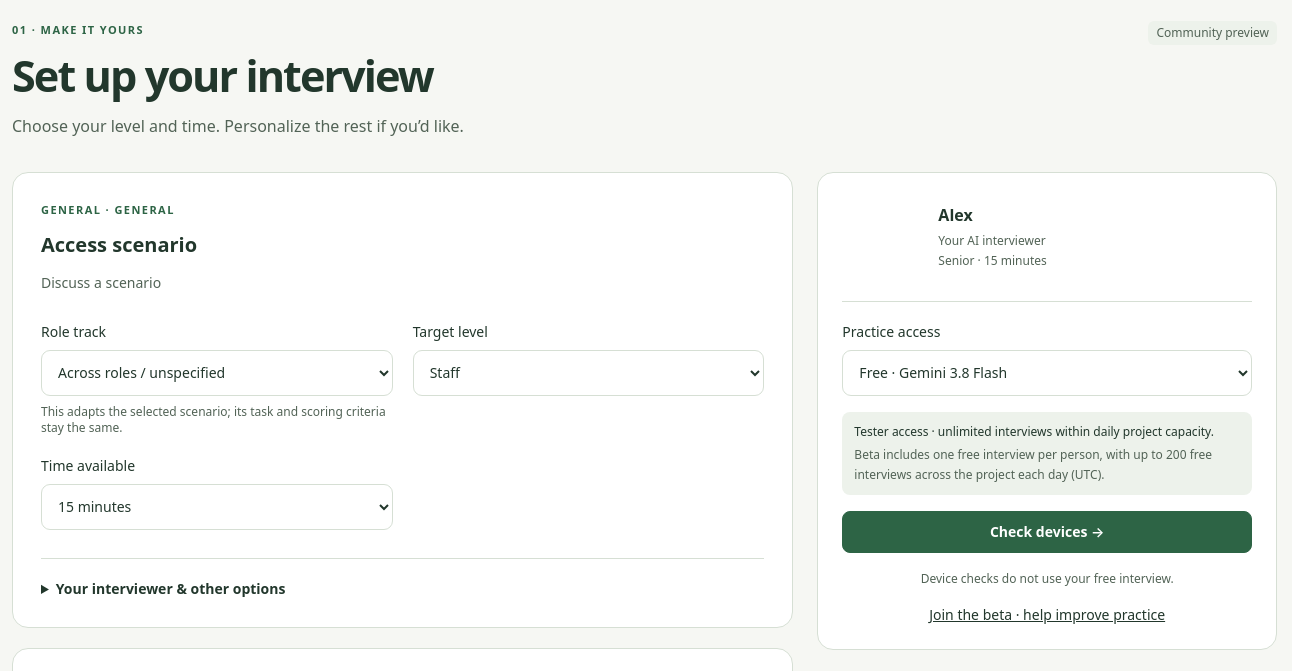
Test: hosted tester setup access › brings each setup stage into view and preserves choices when returning to options
Select "Staff" in the dropdown labelled "Target level" at (589, 373), box [413, 350, 764, 396]
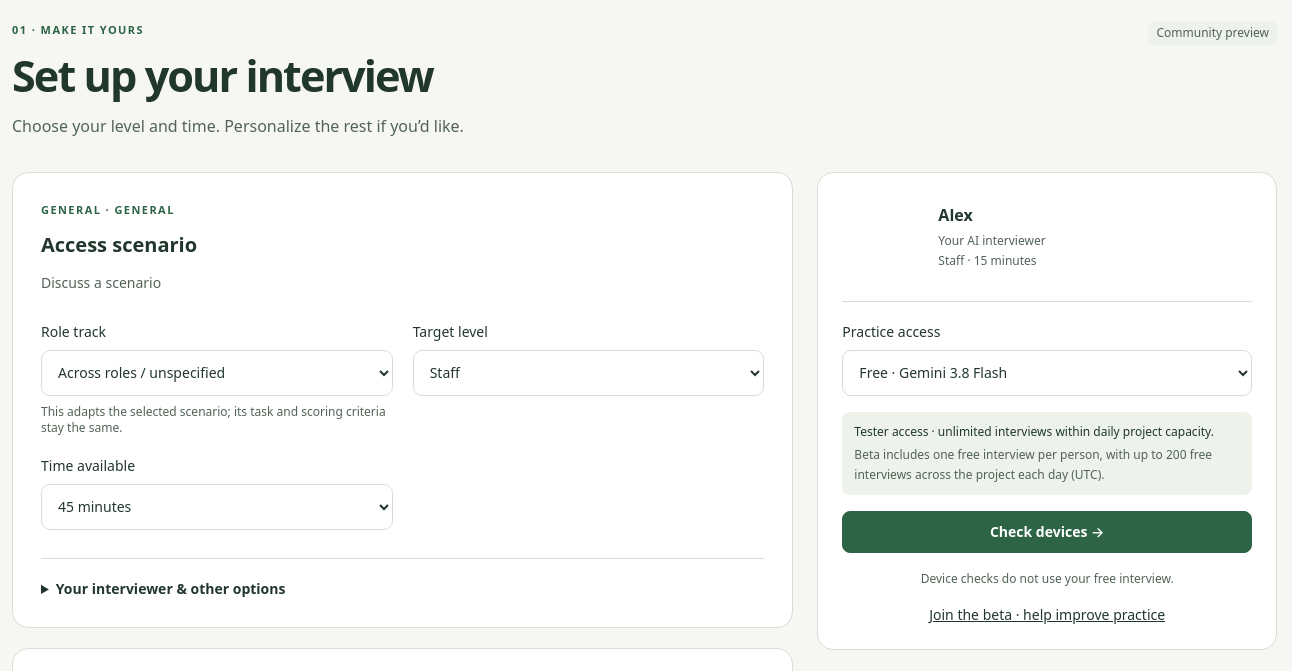
Select "45 minutes" in the dropdown labelled "Time available" at (217, 507), box [41, 484, 393, 530]
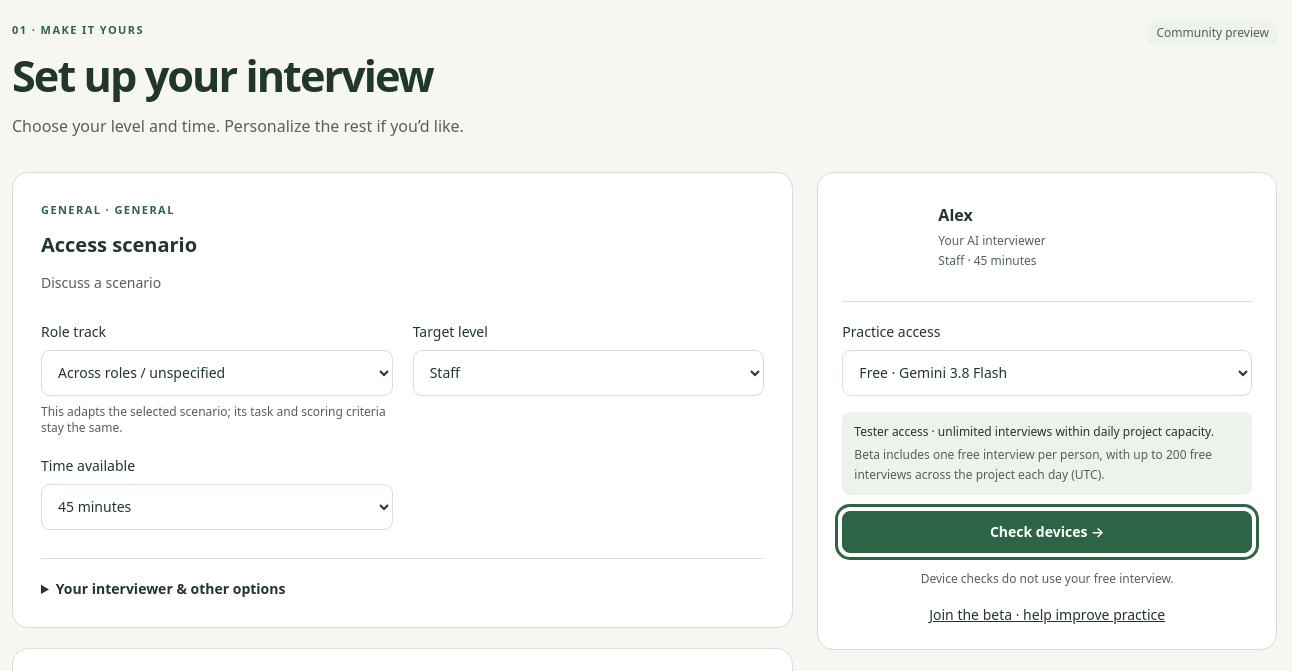
Click the button "Check devices →" at (1047, 532), box [842, 511, 1252, 553]
(page scrolled)
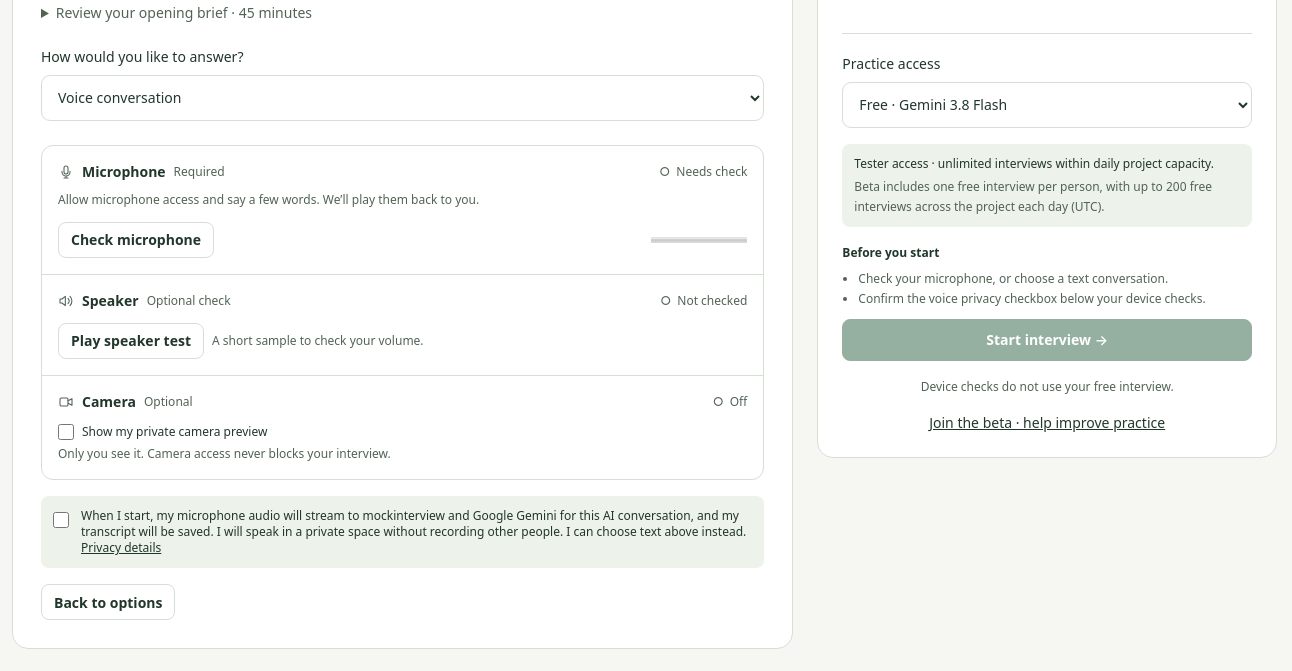
Click the button "Back to options" at (108, 602), box [41, 584, 176, 620]
(page scrolled)
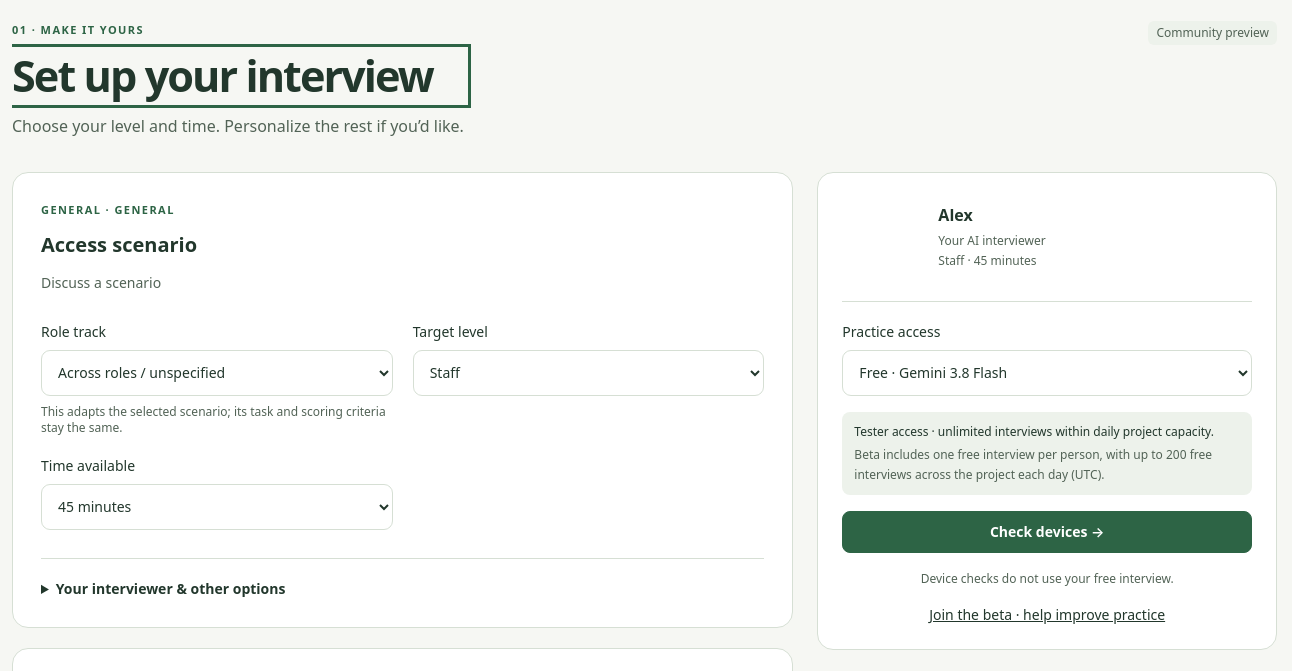
Expected: the heading "Set up your interview" is shown, [12, 51, 464, 101]
